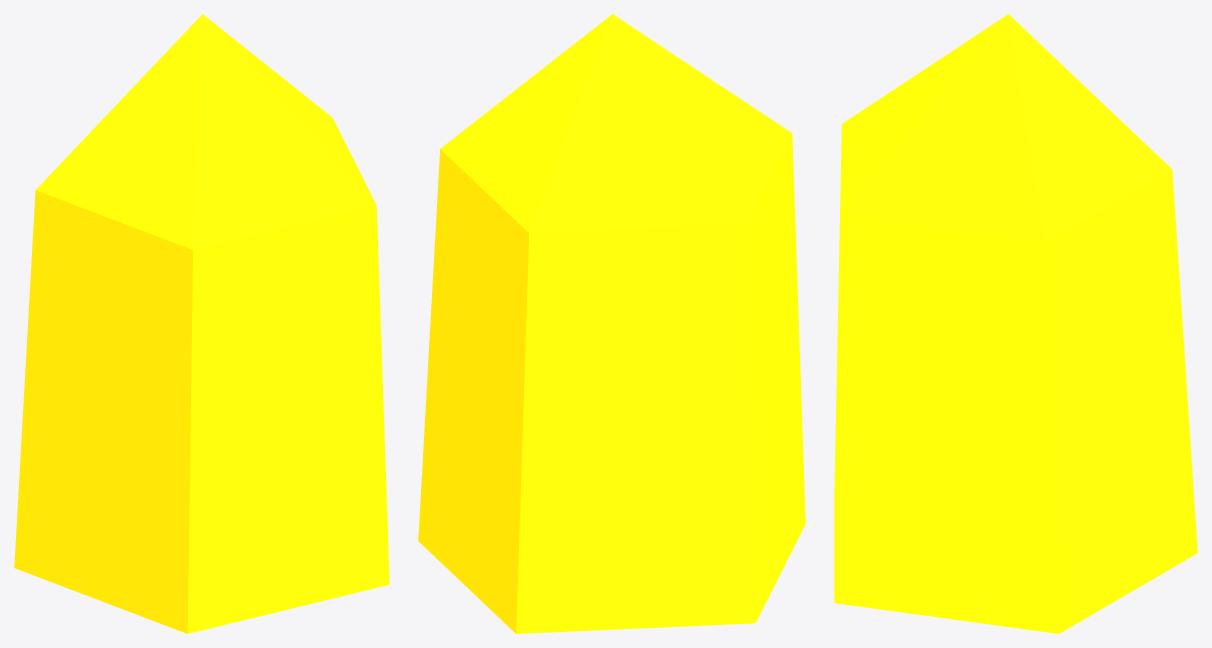
File: GemNub.fbx
3 renders of one model, left to right at view 1: azimuth 30°, elevation 25°; view 2: azimuth 150°, elevation 25°; view 3: azimuth 270°, elevation 25°, orthographic. The views are drawn at different scales.
Visible parts, largest first — view 1: GemNub; view 2: GemNub; view 3: GemNub.
Part boxes in pixels (x1,y1,x2,y2): GemNub: (14,14,389,633); GemNub: (418,14,805,633); GemNub: (834,14,1197,633).
Bounding box in the file's own units: 50.17 × 78.07 × 47.71.
